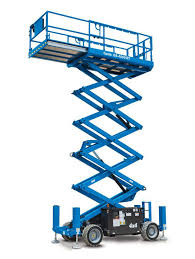Scissor Lift: (27, 10, 168, 248)
